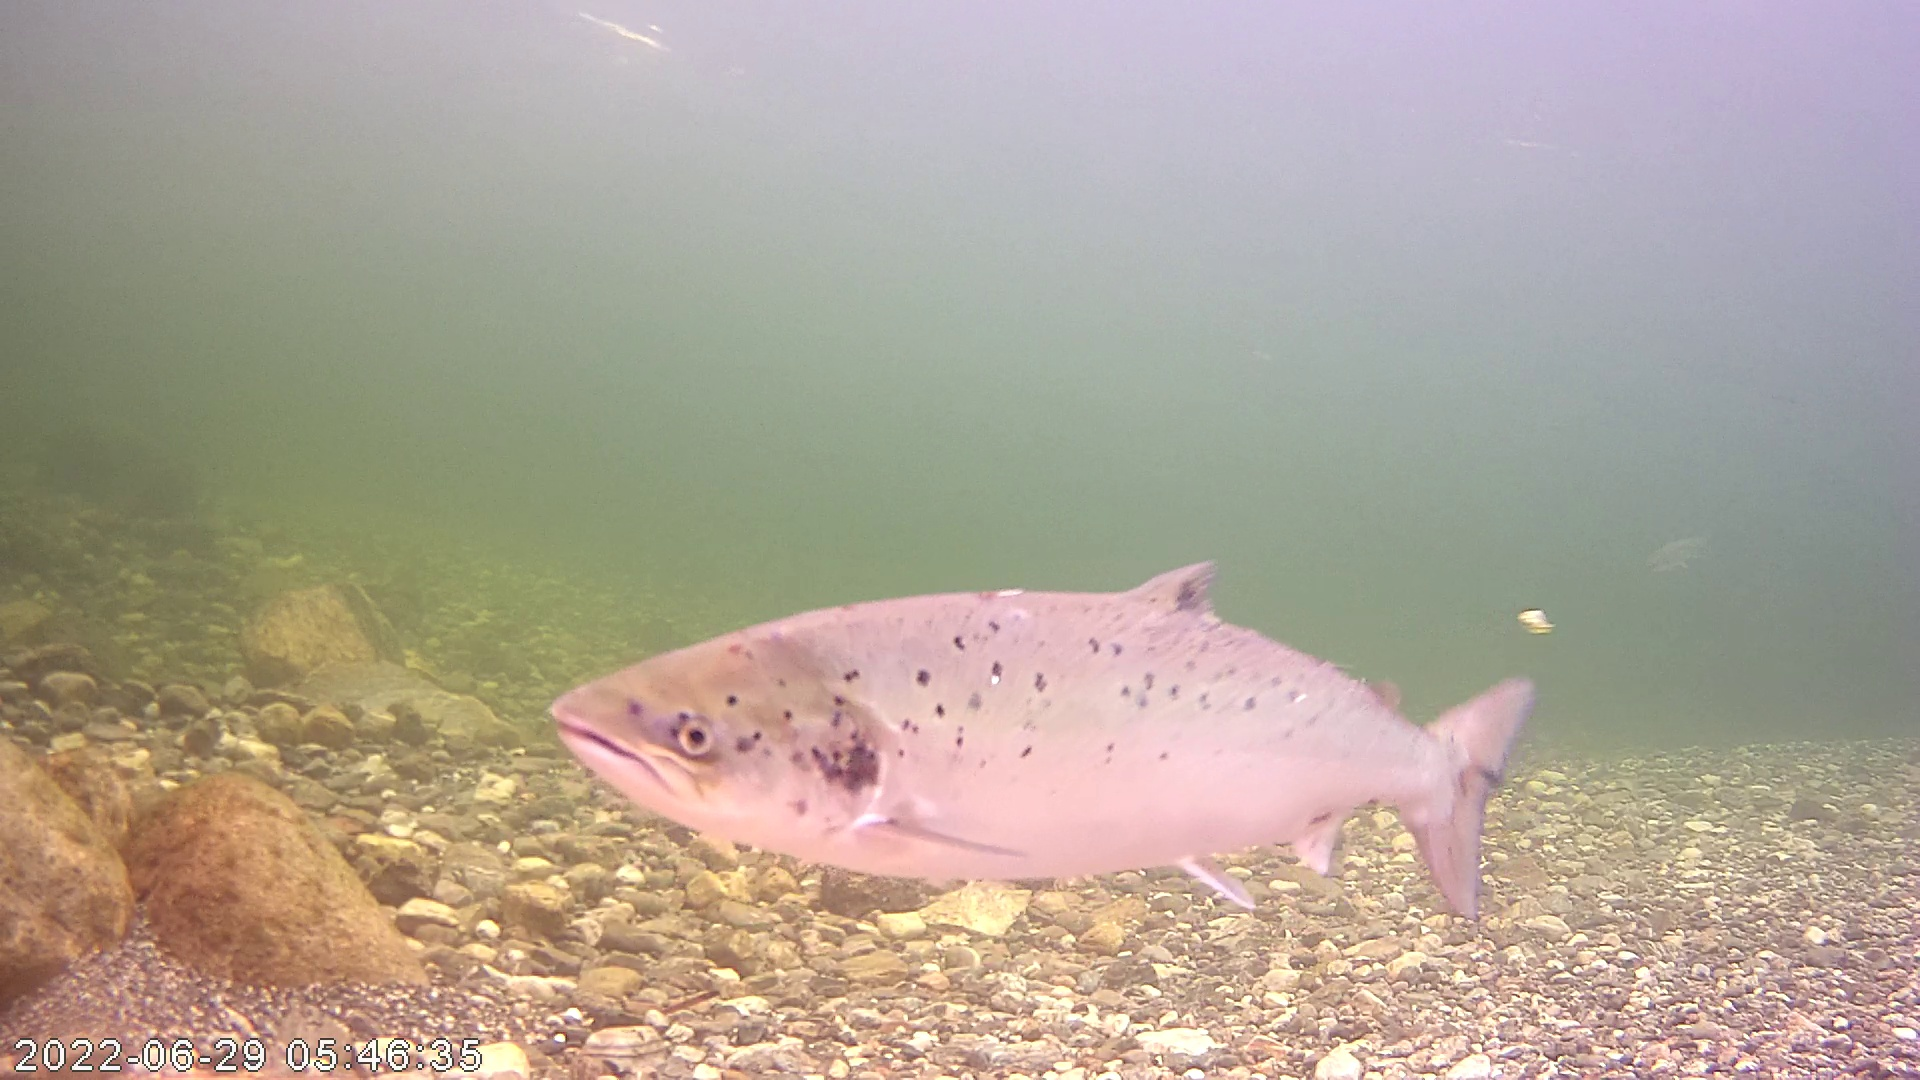salmon: (558, 433, 1545, 927)
